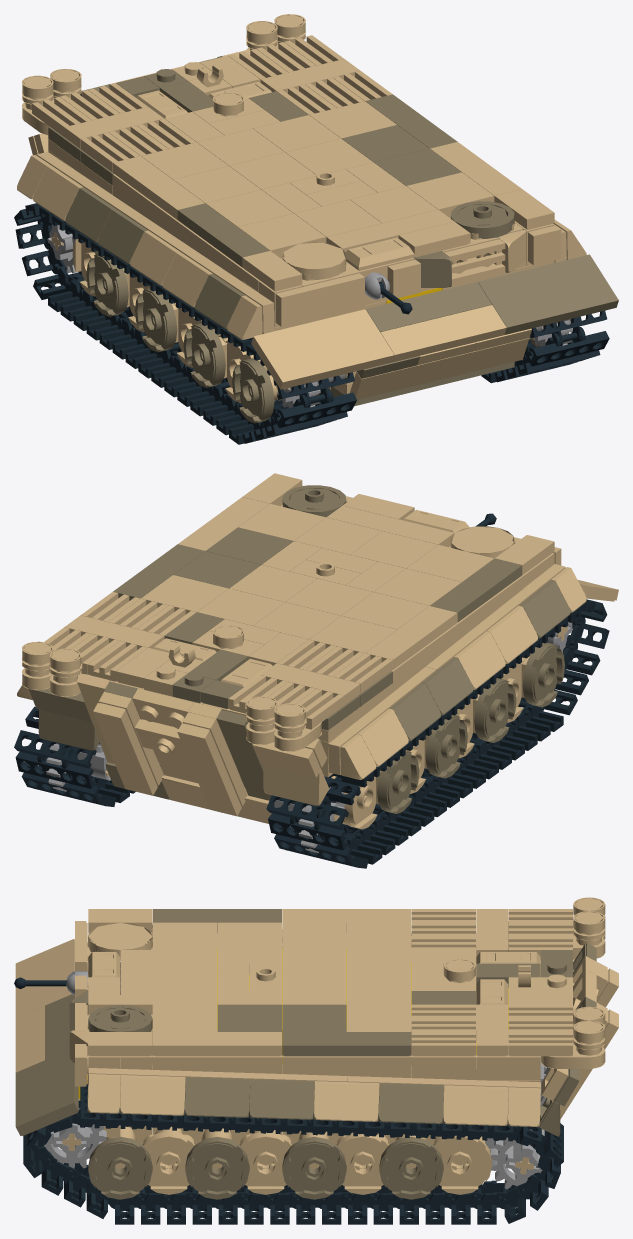
The model's file is tank_tiger.glb.
3 renders of one model, top to bottom at view 1: azimuth 30°, elevation 25°; view 2: azimuth 150°, elevation 25°; view 3: azimuth 270°, elevation 25°, orthographic.
Parts seen in each view (by area): view 1: 87079.dat, 87079.dat.001, 2431.dat.010, 6636.dat, 63864.dat, 2431.dat.009, 2431.dat.006, 2431.dat.004, 18674.dat.001, 18674.dat.002, 18674.dat.003, 2431.dat.008 (+92 smaller); view 2: 2431.dat.002, 2431.dat.003, 2431.dat.004, 2431.dat.006, 2431.dat.001, 18674.dat.001, 18674.dat.002, 18674.dat.003, 2431.dat.008, 3068b.dat.008, 3068b.dat.003, 18674.dat.004 (+110 smaller); view 3: 87079.dat.001, 2431.dat.005, 2431.dat.007, 18674.dat.005, 18674.dat.006, 18674.dat.007, 18674.dat.008, 87079.dat, 3001.dat.020, 85984.dat.012, 85984.dat.015, 85984.dat.013 (+109 smaller).
Part boxes in pixels (left/top/right/bottom): 87079.dat: left=251, top=309, right=394, bottom=389; 87079.dat.001: left=478, top=254, right=618, bottom=334; 2431.dat.010: left=380, top=305, right=506, bottom=362; 6636.dat: left=350, top=338, right=529, bottom=399; 63864.dat: left=275, top=273, right=364, bottom=326; 2431.dat.009: left=365, top=282, right=491, bottom=332; 2431.dat.006: left=177, top=203, right=269, bottom=267; 2431.dat.004: left=113, top=156, right=204, bottom=219; 18674.dat.001: left=232, top=358, right=274, bottom=423; 18674.dat.002: left=183, top=323, right=225, bottom=387; 18674.dat.003: left=135, top=288, right=177, bottom=352; 2431.dat.008: left=326, top=209, right=453, bottom=252; 2431.dat.002: left=93, top=703, right=157, bottom=795; 2431.dat.003: left=177, top=723, right=241, bottom=816; 2431.dat.004: left=365, top=606, right=457, bottom=669; 2431.dat.006: left=430, top=558, right=522, bottom=622; 2431.dat.001: left=216, top=710, right=271, bottom=800; 18674.dat.001: left=522, top=642, right=564, bottom=707; 18674.dat.002: left=474, top=678, right=516, bottom=742; 18674.dat.003: left=425, top=715, right=467, bottom=778; 2431.dat.008: left=326, top=505, right=454, bottom=547; 3068b.dat.008: left=309, top=616, right=396, bottom=655; 3068b.dat.003: left=141, top=575, right=228, bottom=614; 18674.dat.004: left=377, top=750, right=419, bottom=813; 87079.dat.001: left=15, top=1050, right=78, bottom=1135; 2431.dat.005: left=282, top=1032, right=411, bottom=1056; 2431.dat.007: left=153, top=1032, right=281, bottom=1056; 18674.dat.005: left=88, top=1136, right=152, bottom=1199; 18674.dat.006: left=185, top=1136, right=249, bottom=1199; 18674.dat.007: left=282, top=1136, right=346, bottom=1199; 18674.dat.008: left=379, top=1136, right=443, bottom=1199; 87079.dat: left=15, top=939, right=74, bottom=1017; 3001.dat.020: left=282, top=1030, right=411, bottom=1080; 85984.dat.012: left=184, top=1077, right=249, bottom=1117; 85984.dat.015: left=378, top=1083, right=443, bottom=1123; 85984.dat.013: left=249, top=1079, right=314, bottom=1119.
Bounding box in the file's own units: 1.23 × 0.6226 × 1.87.
